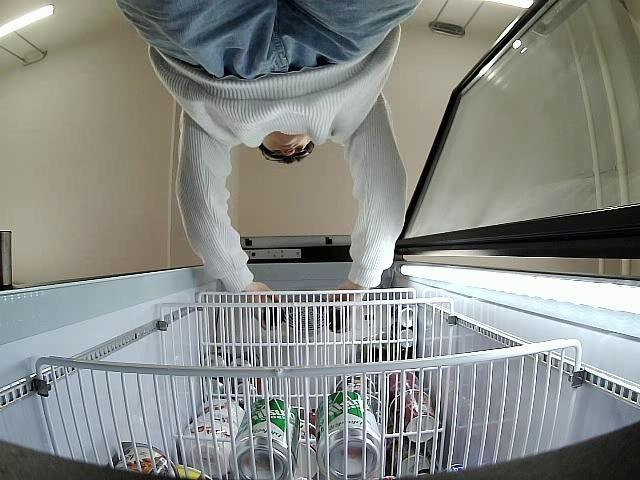17_vita500: (328, 306, 350, 331), (262, 306, 284, 328)
